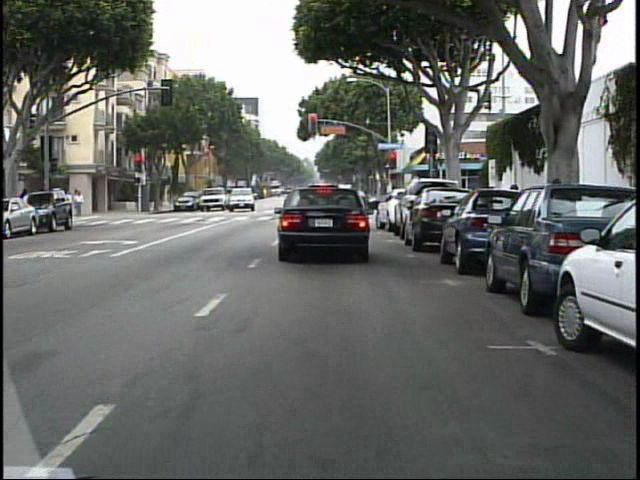person: (75, 187, 89, 218), (76, 189, 88, 219)
